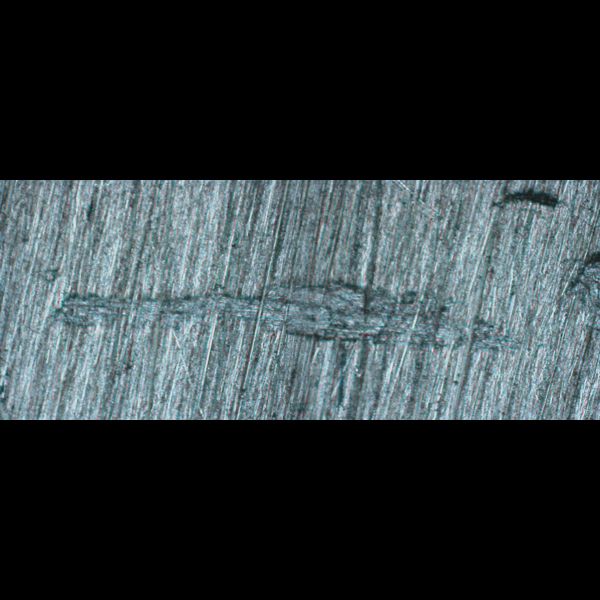d: (47, 278, 521, 360)
